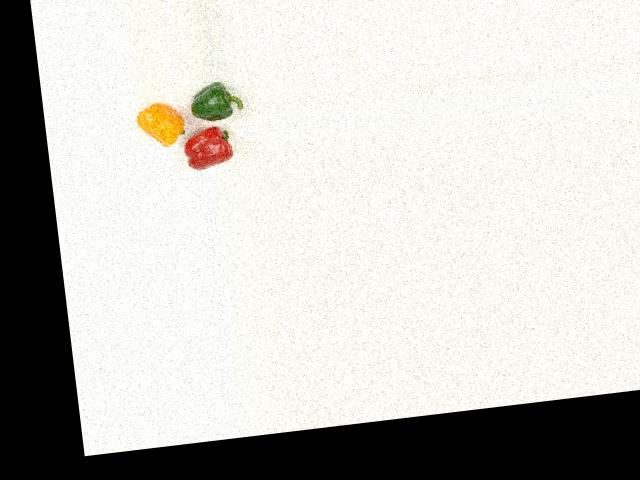bell_pepper: (187, 78, 246, 125)
